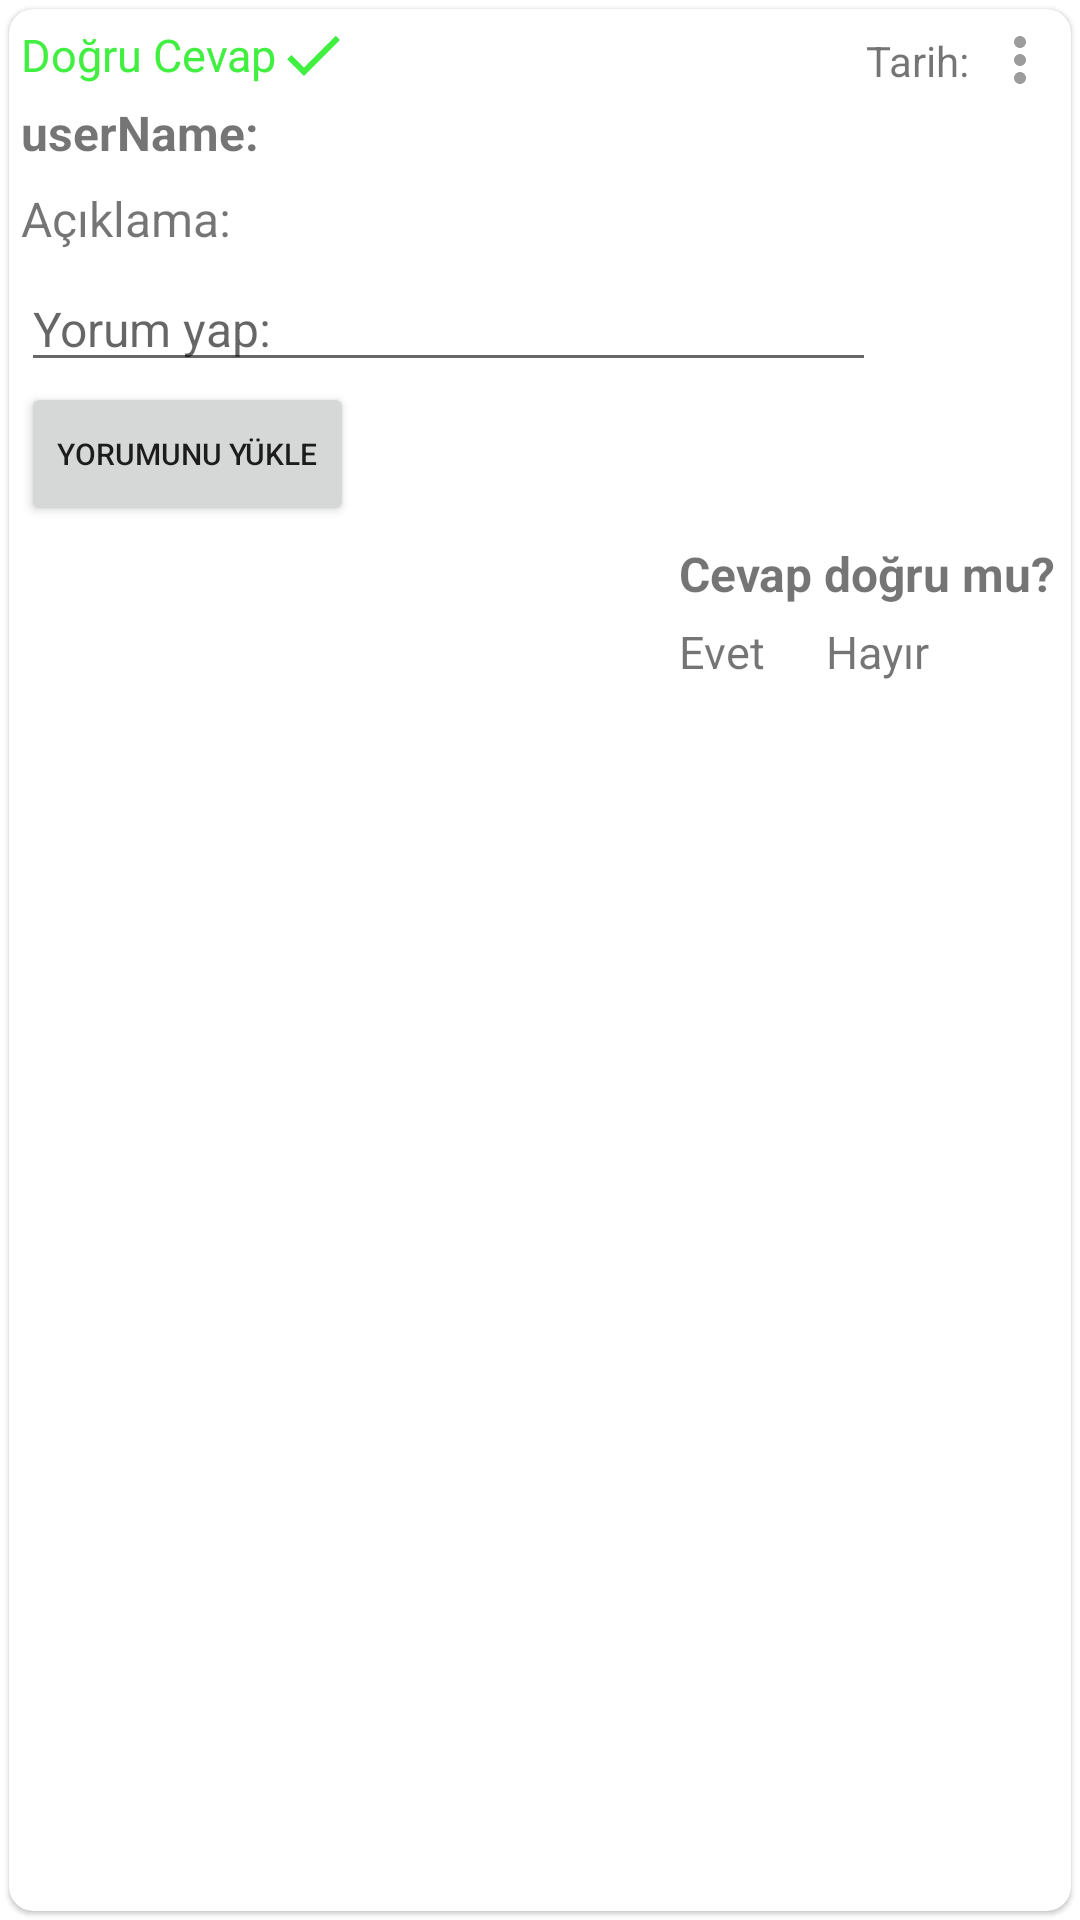

Named icons in this screenshot (1080w x 1920h) and their bounding boxes, (x1, y1, x2, y2):
noktauc: (1014, 36, 1026, 84)
